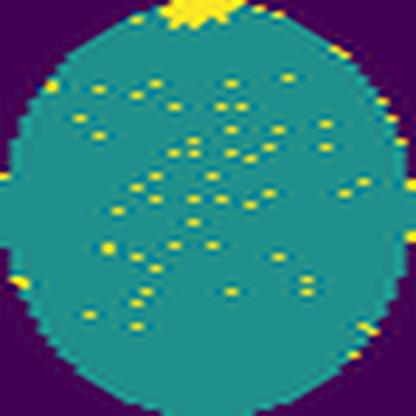Edge-Loc: (157, 0, 250, 28)
